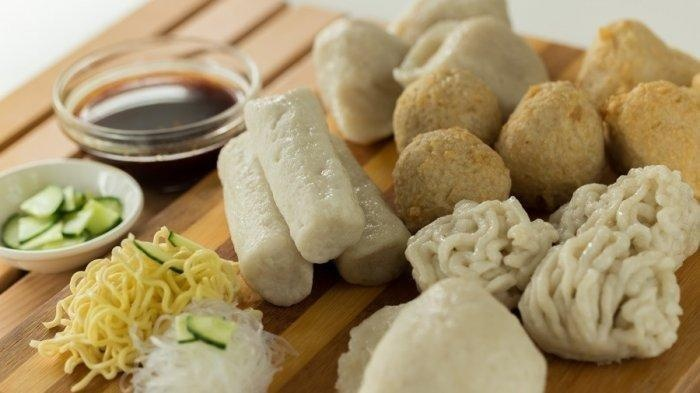pempek: (175, 74, 413, 293), (433, 170, 688, 362)
